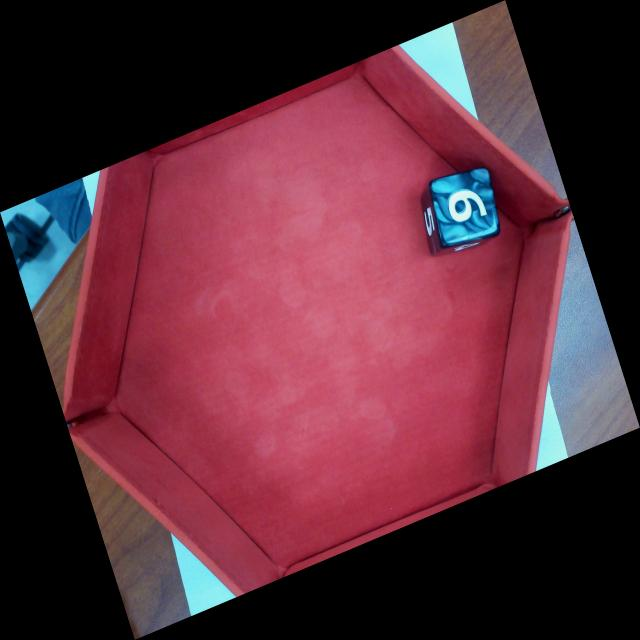dice: (430, 167, 500, 249)
